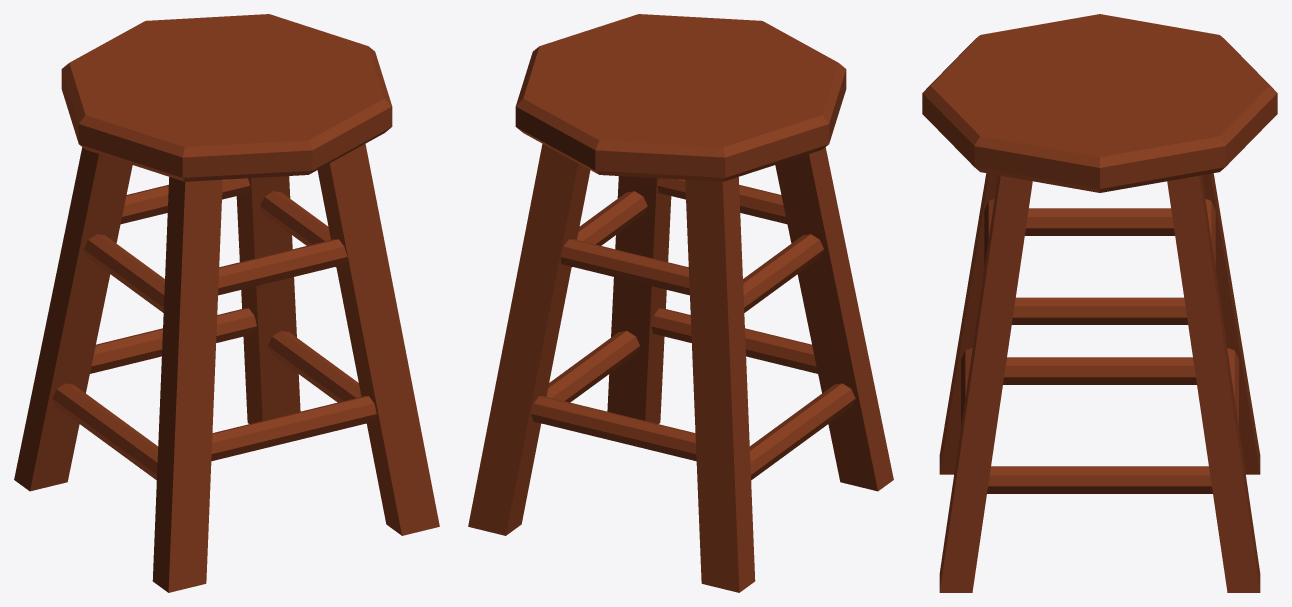
Rendered from stool-wooden.glb.
3 renders of one model, left to right at view 1: azimuth 30°, elevation 25°; view 2: azimuth 150°, elevation 25°; view 3: azimuth 270°, elevation 25°, orthographic. The views are drawn at different scales.
Parts seen in each view (by area): view 1: realo_scale_fix; view 2: realo_scale_fix; view 3: realo_scale_fix.
Part boxes in pixels (x1,y1,x2,y2): realo_scale_fix: (14, 14, 439, 592); realo_scale_fix: (468, 14, 893, 592); realo_scale_fix: (922, 14, 1277, 592).
Bounding box in the file's own units: 0.3302 × 0.45 × 0.3302.
